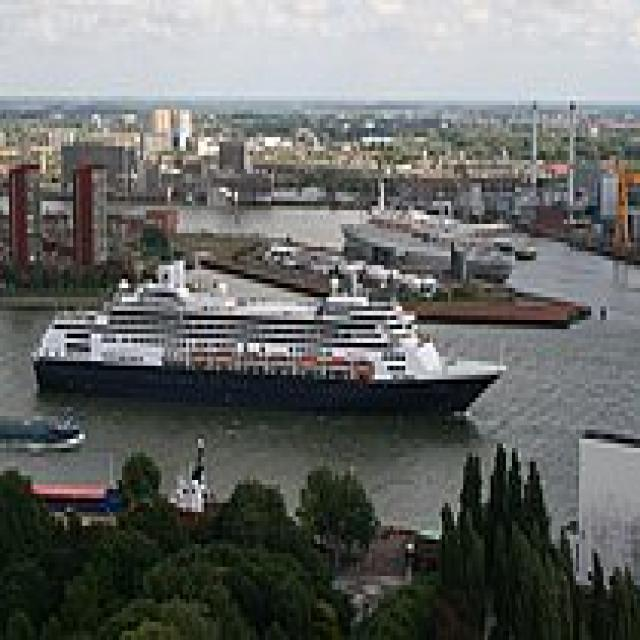Cruise: (27, 247, 506, 425)
